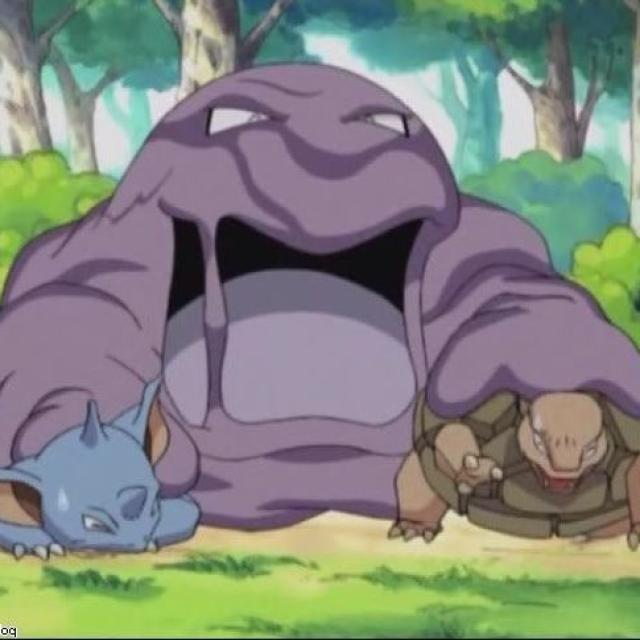Muk: (9, 59, 531, 418)
